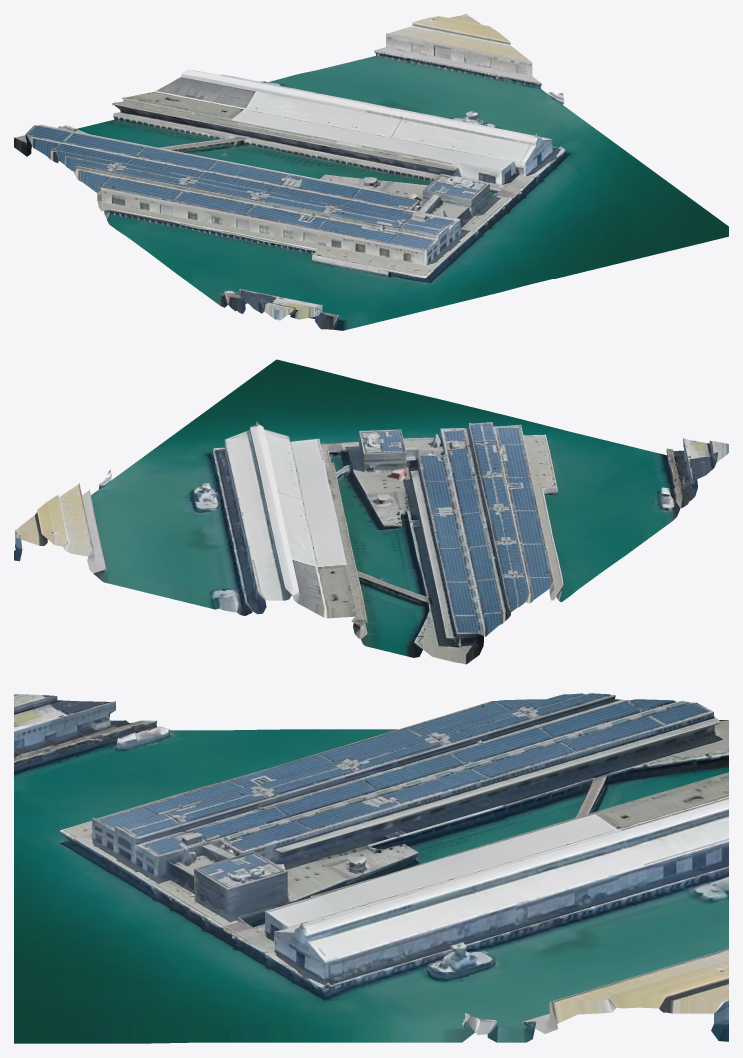
File: z17-20972-50649-h0-yup-uvflip-v3-world.glb
3 views of the same model, one above another, from view 1: azimuth 30°, elevation 25°; view 2: azimuth 150°, elevation 25°; view 3: azimuth 270°, elevation 25° (orthographic). The views are drawn at different scales.
Size of the model in its own units: 241 by 24 by 243.
1 material, 1 textured.
